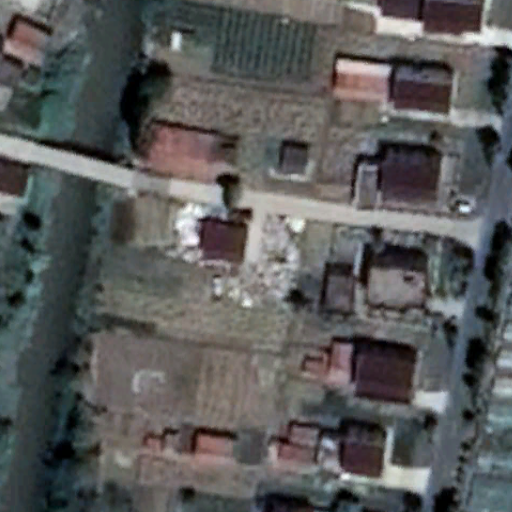msw: (225, 218, 303, 306), (172, 203, 200, 264)
